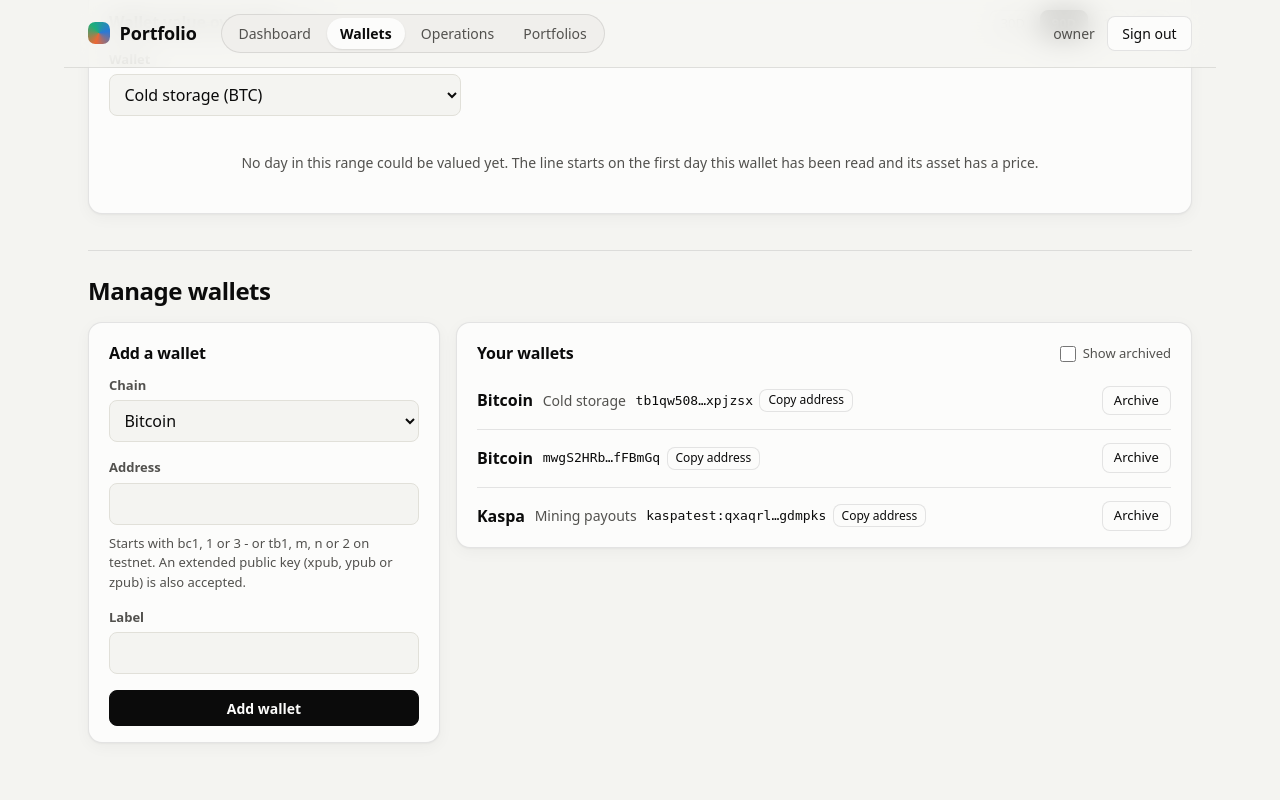
Test: WalletsPage: states › a failed archive leaves the row in place and says why
This screenshot has width=1280, height=800.
(page scrolled)
Click the 1st button "Archive " at (1136, 400), box x1=1102 y1=386 x2=1171 y2=415
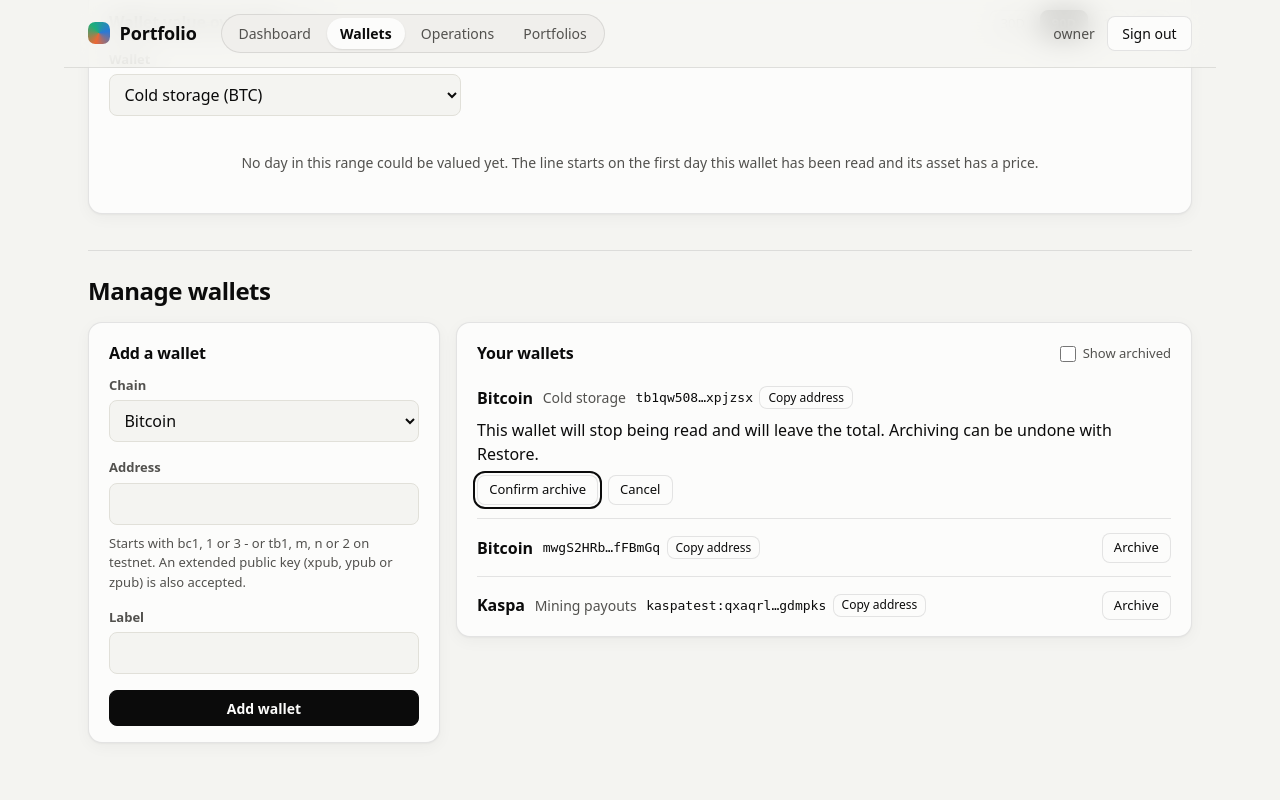
Click the button with aria-label "Confirm archive of " at (538, 490), box x1=477 y1=475 x2=598 y2=505
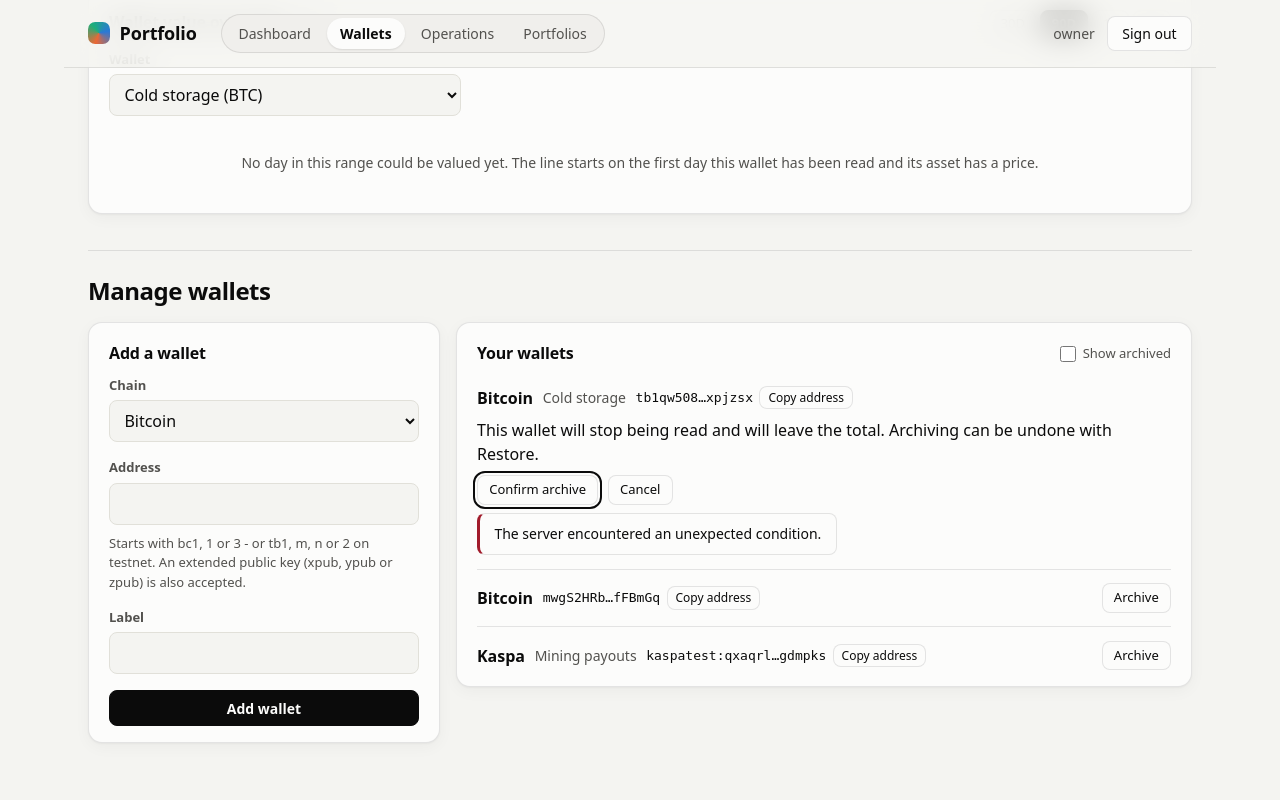
Expected: the 1st list item is shown, x1=477 y1=372 x2=1171 y2=570
Expected: the button with aria-label "Confirm archive of " is enabled, x1=477 y1=475 x2=598 y2=505
Expected: the message reads "The server encountered an unexpected condition.", x1=494 y1=524 x2=821 y2=543
